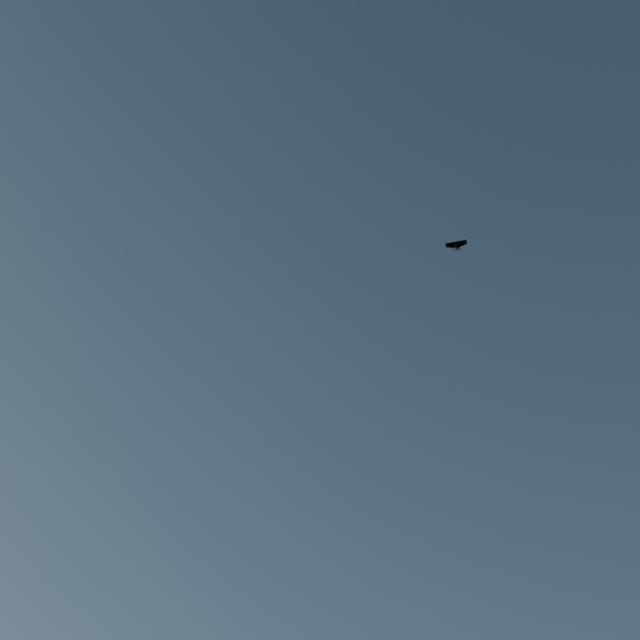Airaplan: (445, 240, 467, 252)
